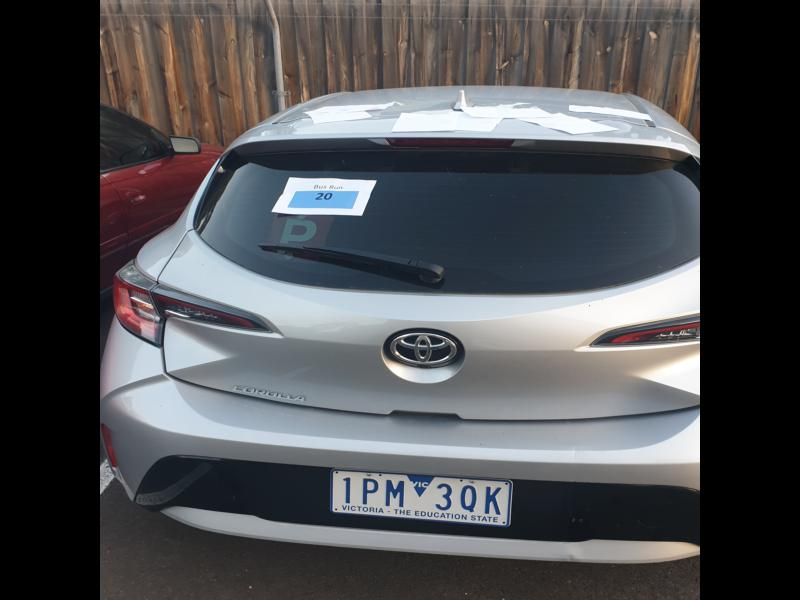BusRun: (289, 189, 357, 210)
PlateNo: (330, 470, 513, 527)
